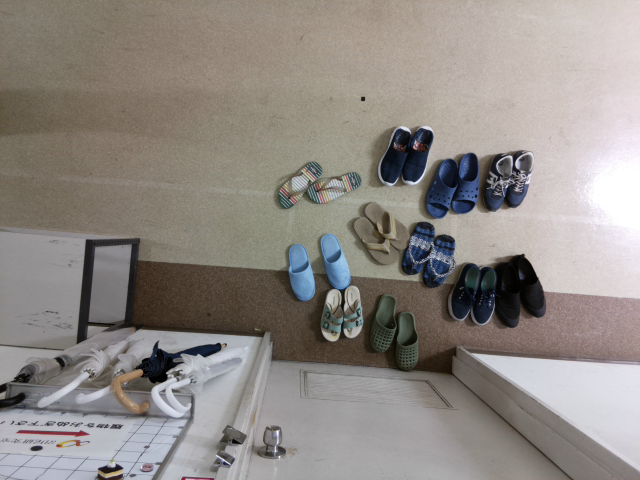Copy of Copy of Copy of Copy of Copy of Copy of Copy of Copy of Copy of Copy of: (358, 196, 416, 254), (344, 208, 402, 266), (508, 246, 553, 317), (442, 254, 486, 326), (389, 301, 424, 379), (471, 259, 506, 337), (490, 255, 525, 332), (398, 214, 438, 281), (419, 229, 459, 296), (477, 149, 517, 216), (501, 147, 541, 214)
Copy of Copy of Copy of Copy of Copy of Copy of Copy of Copy of Copy of shoe: (363, 284, 398, 362)
Copy of Copy of Copy of Copy of Copy of Copy of Copy of Copy of shoe: (371, 115, 416, 194)
Copy of Copy of Copy of Copy of Copy of Copy of Copy of shoe: (301, 161, 364, 211)
Copy of Copy of Copy of Copy of Copy of Copy of shoe: (270, 154, 331, 214)
Copy of Copy of Copy of Copy of Copy of shoe: (447, 143, 487, 220)
Copy of Copy of Copy of Copy of Copy of umbrella: (1, 323, 136, 408)
Copy of Copy of Copy of Copy of shoe: (423, 152, 463, 222)
Copy of Copy of Copy of Copy of umbrella: (31, 324, 155, 409)
Copy of Copy of Copy of shoe: (335, 281, 368, 346)
Copy of Copy of Copy of umbrella: (69, 329, 164, 409)
Copy of Copy of shoe: (314, 283, 347, 348)
Copy of Copy of umbrella: (99, 339, 228, 418)
Copy of shoe: (315, 229, 356, 295)
Copy of umbrella: (163, 345, 257, 426)
shoe: (281, 238, 322, 308)
umbrella: (142, 331, 258, 423)
